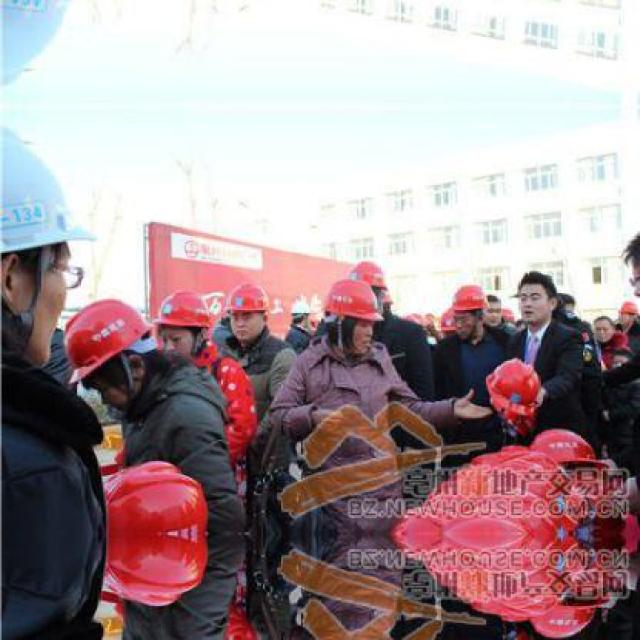helmet: (0, 116, 94, 370), (61, 298, 154, 407), (0, 0, 95, 97), (154, 286, 215, 357), (322, 274, 380, 347), (226, 278, 269, 343), (449, 284, 486, 338), (349, 256, 386, 298), (434, 305, 458, 338), (614, 296, 638, 324), (289, 299, 311, 329)
